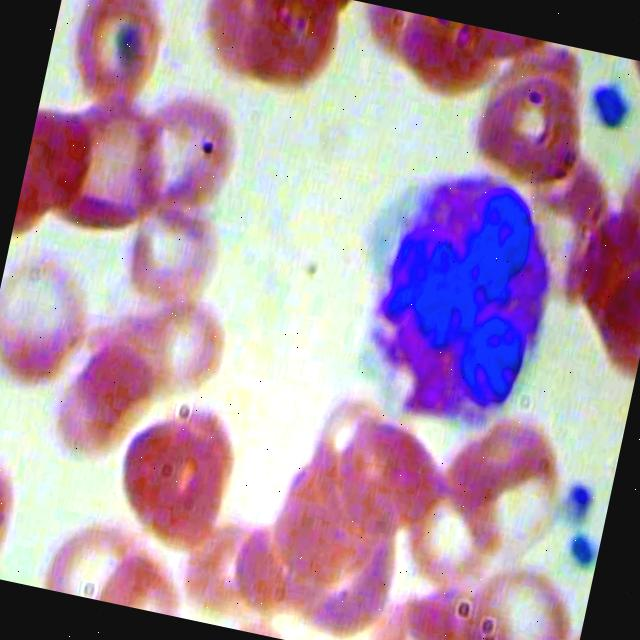Platelets: (583, 76, 635, 146), (552, 466, 602, 529), (558, 522, 602, 574)
WBC: (320, 148, 586, 444)
